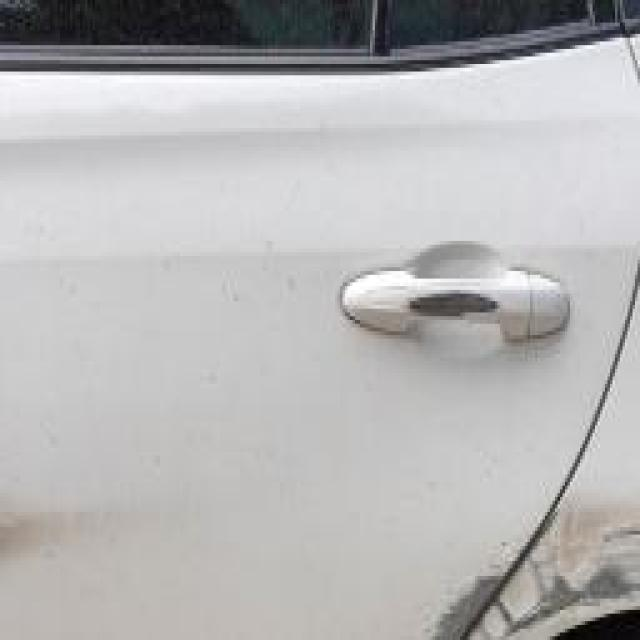Door: (403, 517, 547, 640)
Fender: (455, 473, 640, 640)
